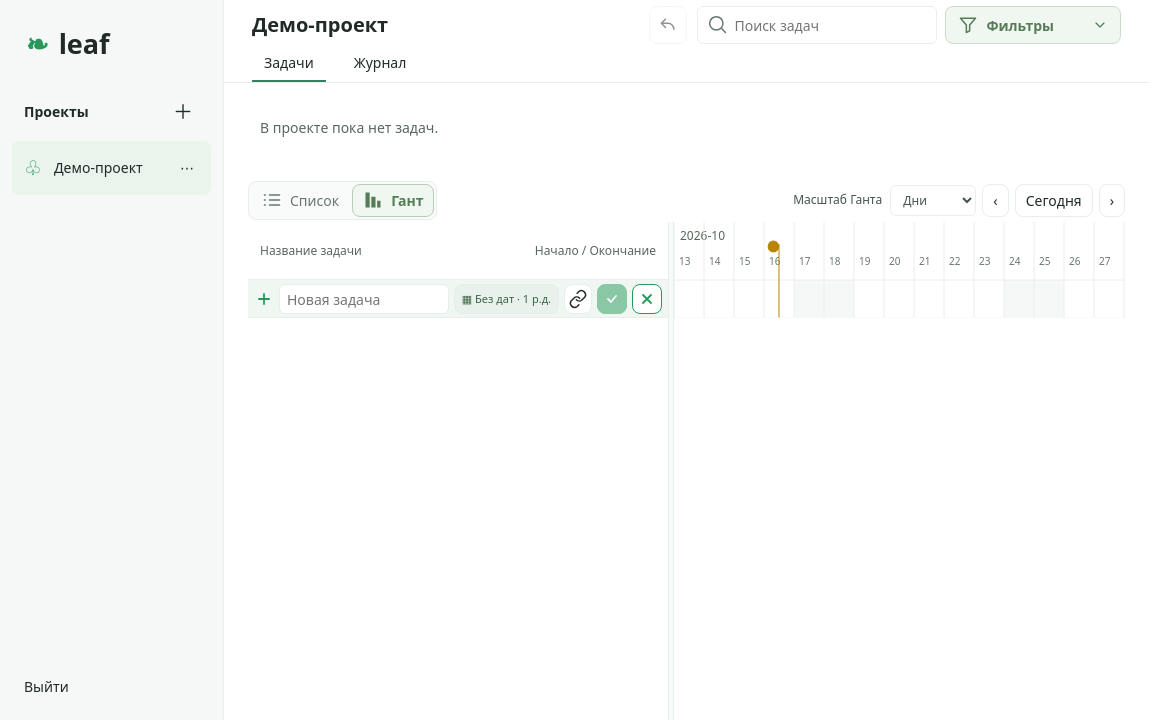
it: project empty task set disables add with explanation
This screenshot has width=1164, height=720.
Check: the heading "Демо-проект" is shown, box [252,11,388,38]
Click the tab "Журнал". click: (380, 63)
box: [342,44,418,82]
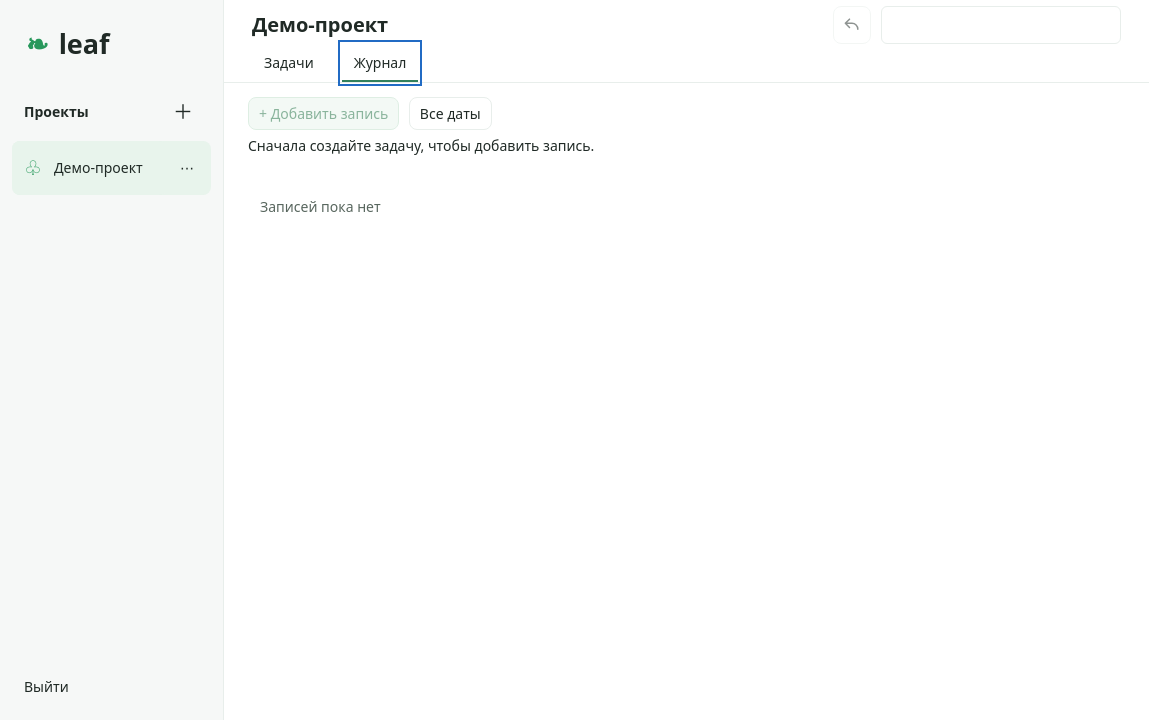
Check: the text "Сначала создайте задачу, чтобы добавить запись." is shown, box [248,136,594,155]
Check: the button "+ Добавить запись" is disabled, box [248,96,399,130]
